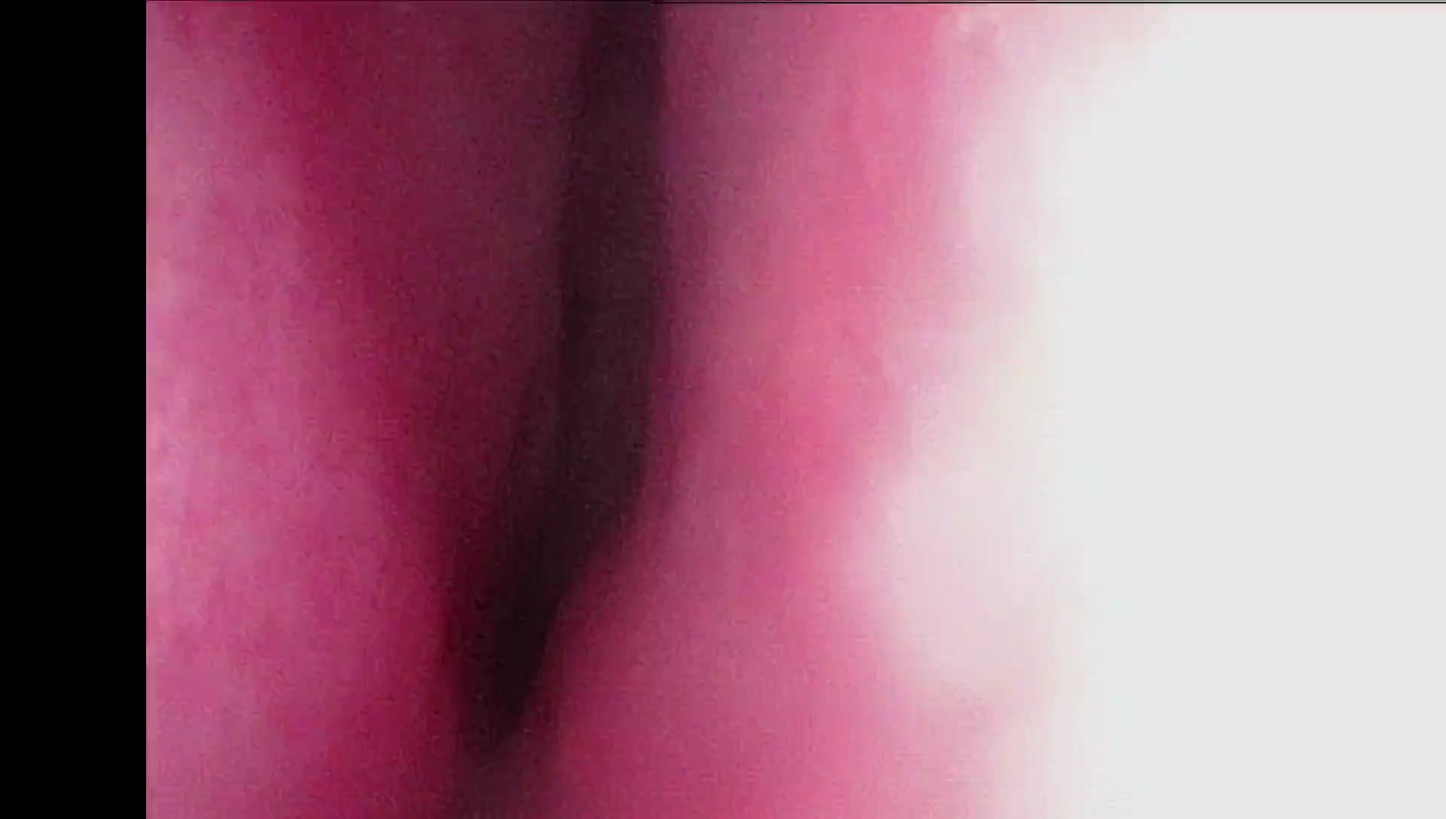close_wall: (772, 7, 1446, 819), (152, 38, 395, 819)
next: (459, 221, 688, 770), (474, 470, 648, 715)
